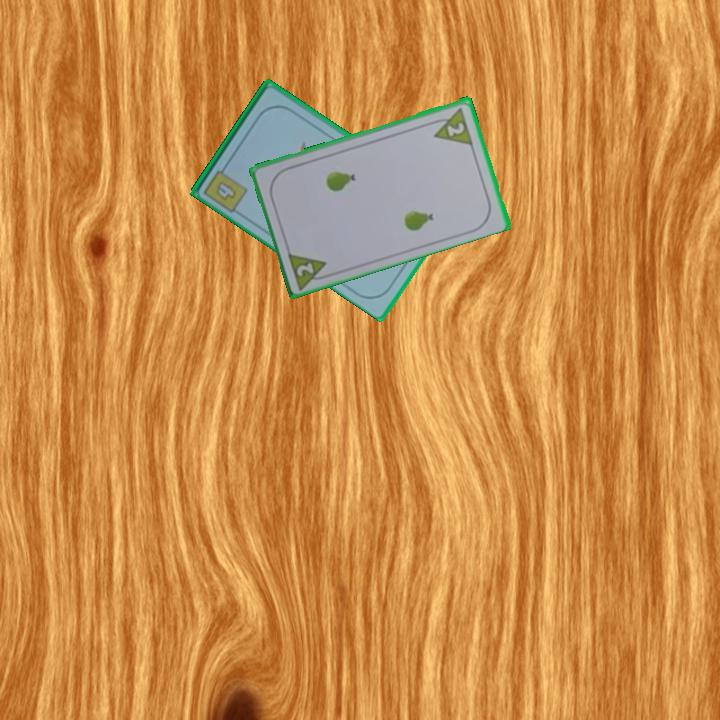2p: (284, 248, 334, 291), (444, 118, 468, 139)
4b: (200, 160, 250, 215)
